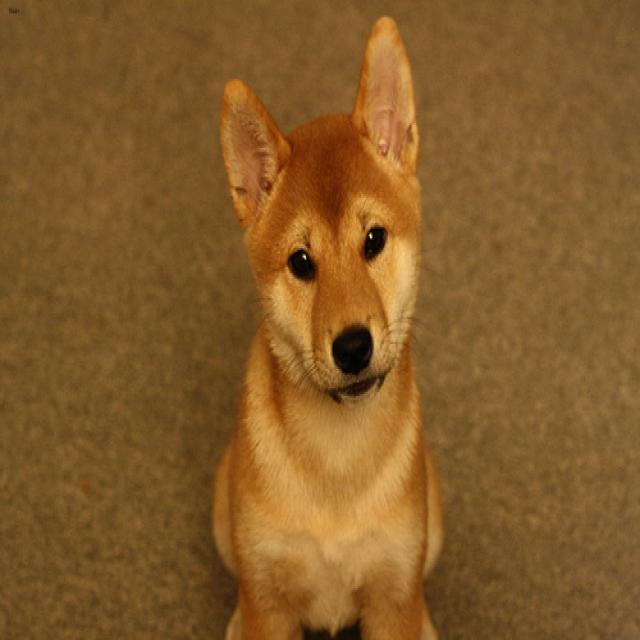dog-shiba_inu: (207, 2, 449, 636)
